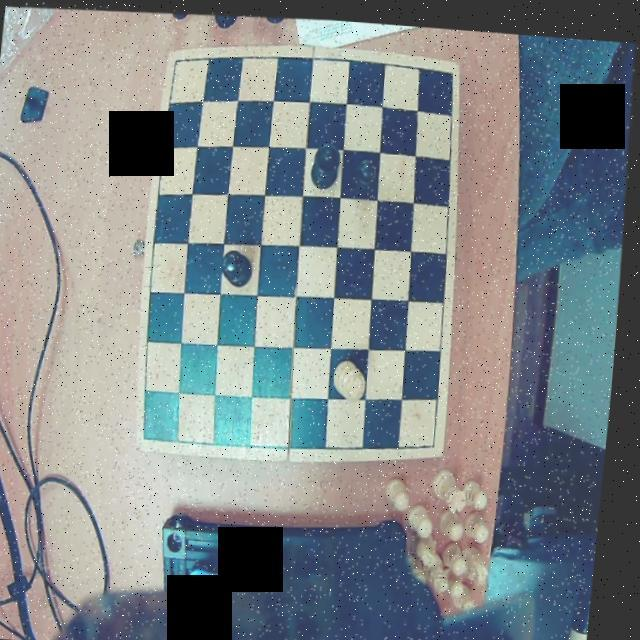chess-table-corners: (143, 420, 167, 446), (426, 428, 448, 452), (443, 56, 461, 84), (171, 46, 190, 69)
